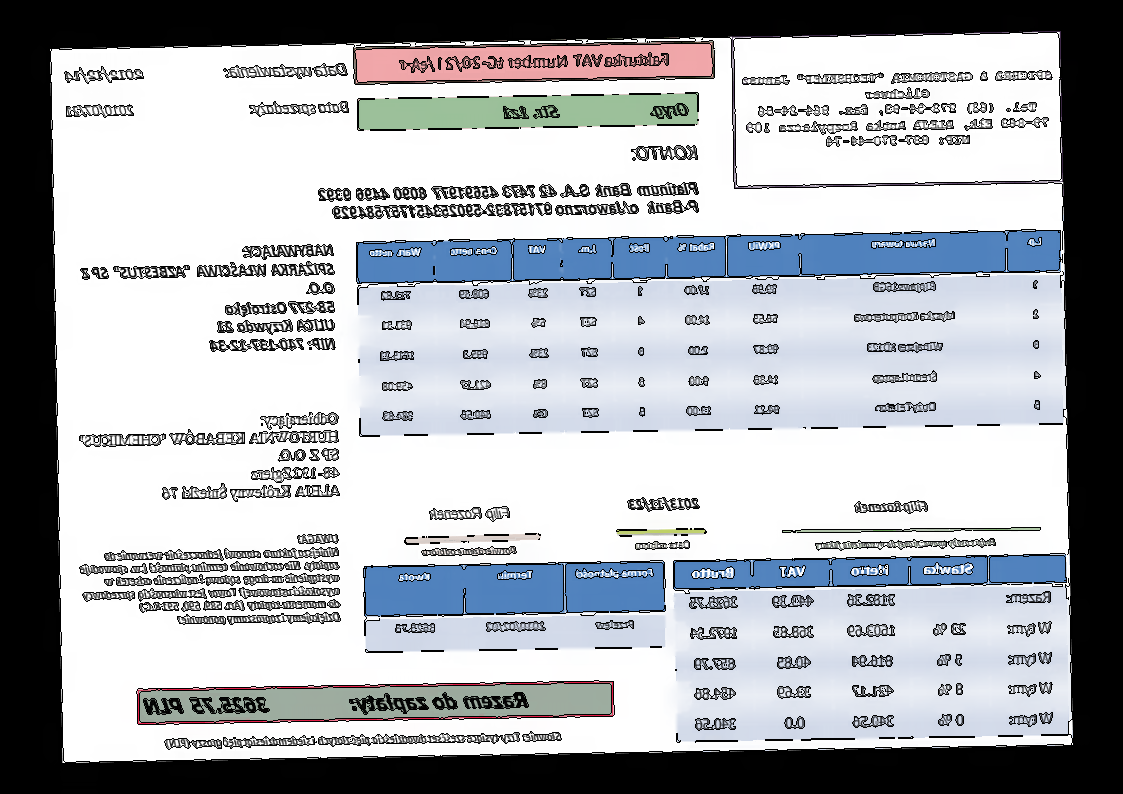Table: (355, 228, 1066, 437), (673, 553, 1072, 742), (361, 558, 667, 655)
TextBox: (76, 242, 338, 358), (742, 66, 1054, 153), (77, 531, 342, 629), (78, 411, 342, 504), (313, 179, 701, 225), (143, 686, 531, 719), (163, 729, 564, 752), (396, 49, 672, 76), (500, 100, 690, 124), (813, 535, 998, 552), (220, 60, 351, 81), (247, 99, 353, 119), (426, 503, 514, 524), (63, 65, 145, 85), (628, 494, 703, 514), (420, 544, 519, 559), (64, 100, 138, 120), (630, 143, 700, 164), (854, 497, 929, 516), (635, 537, 694, 553)
